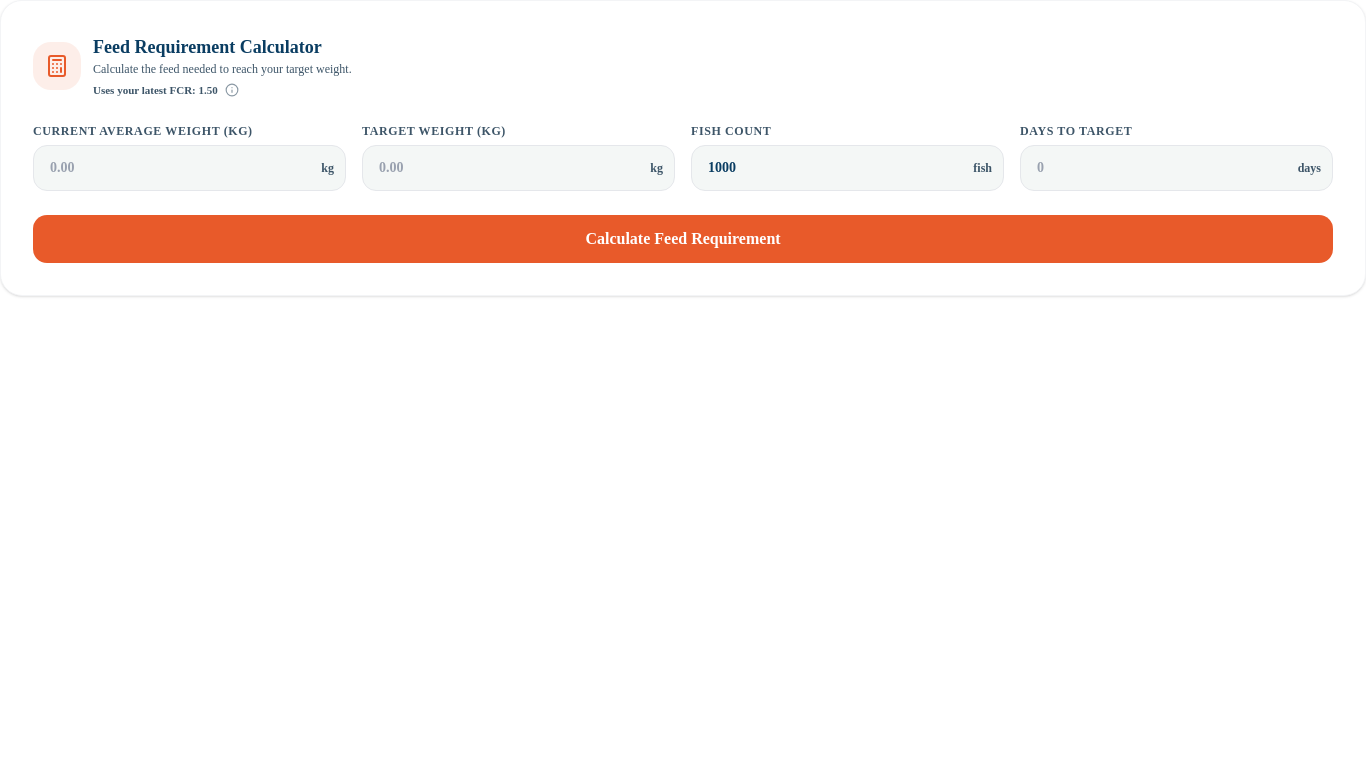
Test: FcrCalculator growth target › disables the action until the pond has an active cycle
Step 1. Type "0.1" into the number field labelled "Current average weight (kg)" → (190, 168), box 33,145 -> 346,191
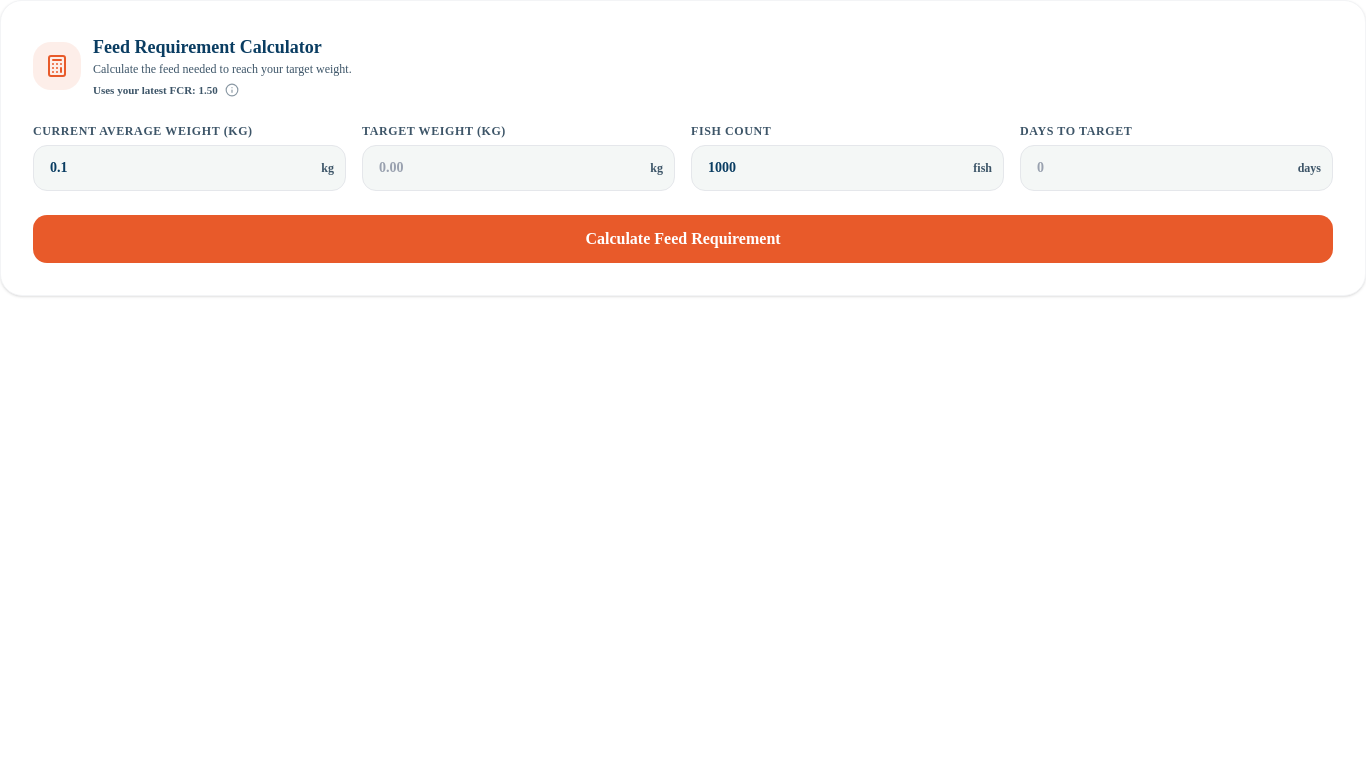
Step 2. Type "0.4" into the number field labelled "Target Weight (kg)" → (518, 168), box 362,145 -> 675,191
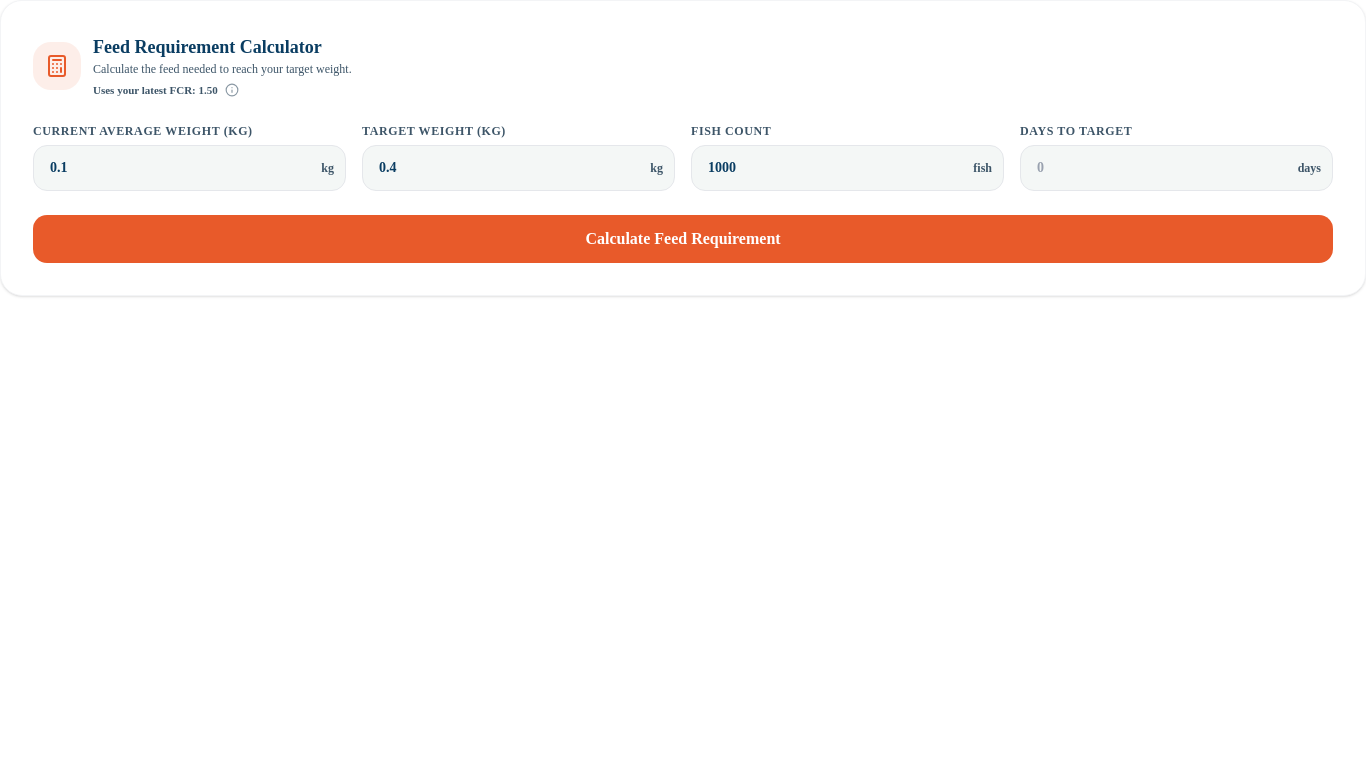
Step 3. Type "60" into the number field labelled "Days to Target" → (1176, 168), box 1020,145 -> 1333,191
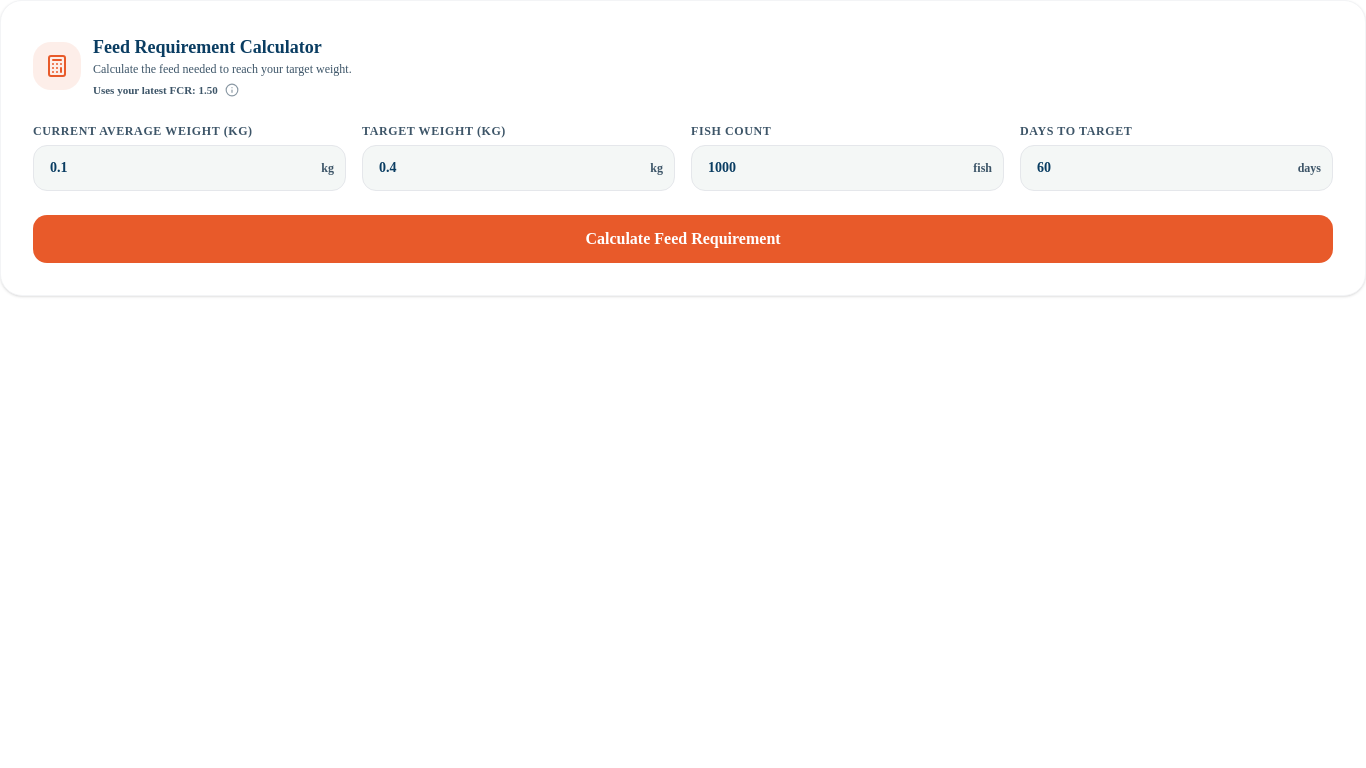
Step 4. Click the button "Calculate Feed Requirement" → (683, 239), box 33,215 -> 1333,263
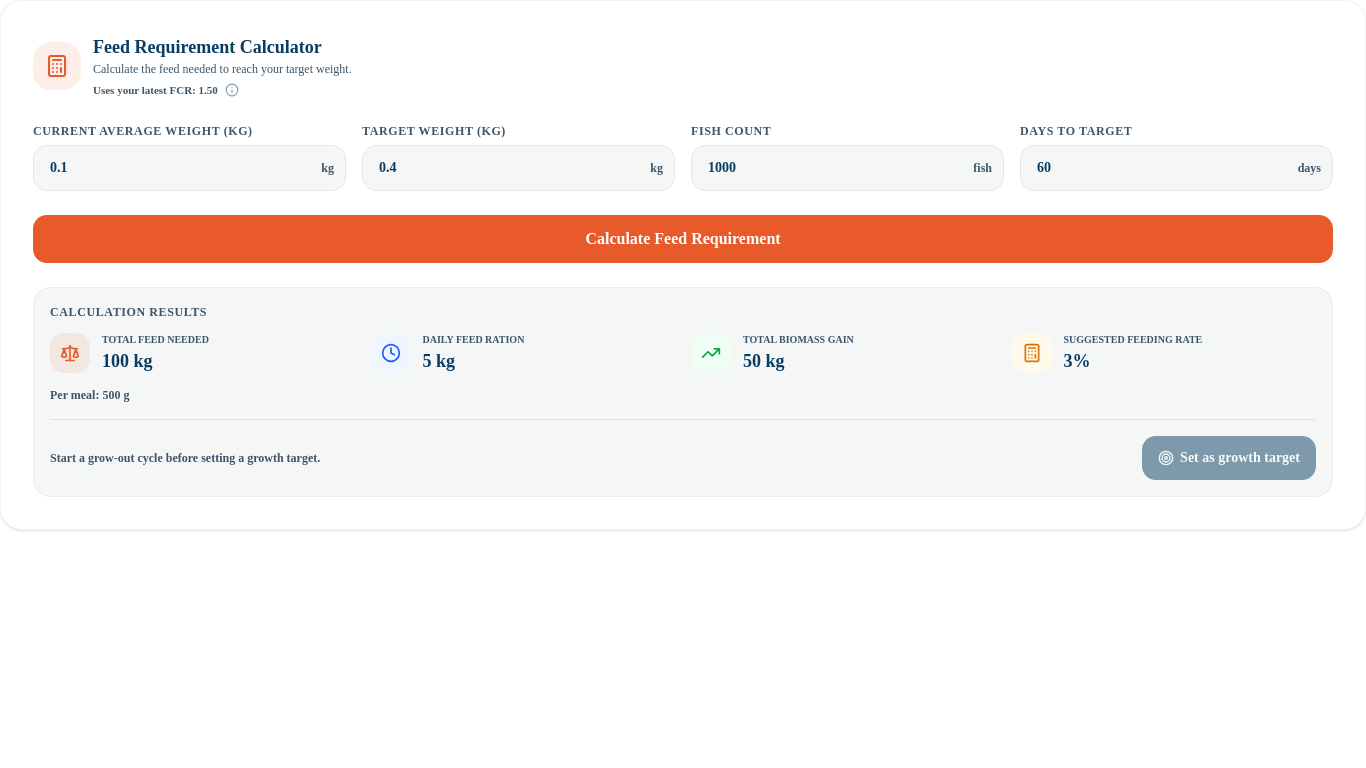
Expected: the button "Set as growth target" is disabled, 1142,436 -> 1316,480
Expected: the text "Start a grow-out cycle before setting a growth target." is shown, 50,450 -> 320,466
